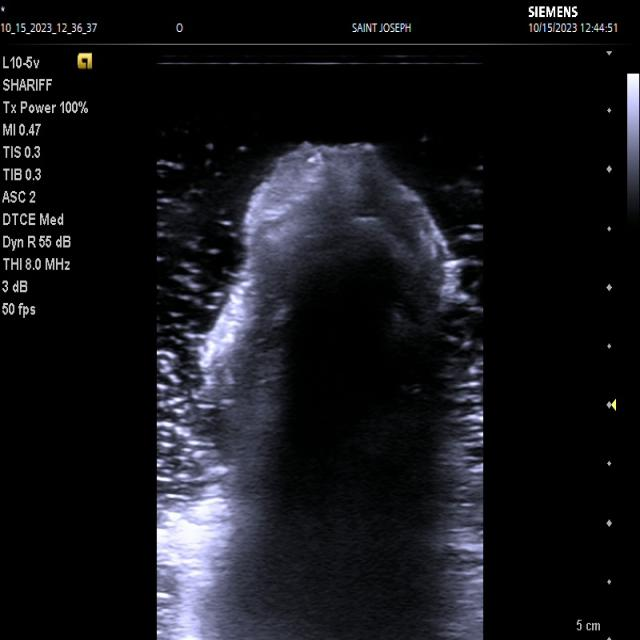tissue: (159, 145, 482, 640)
